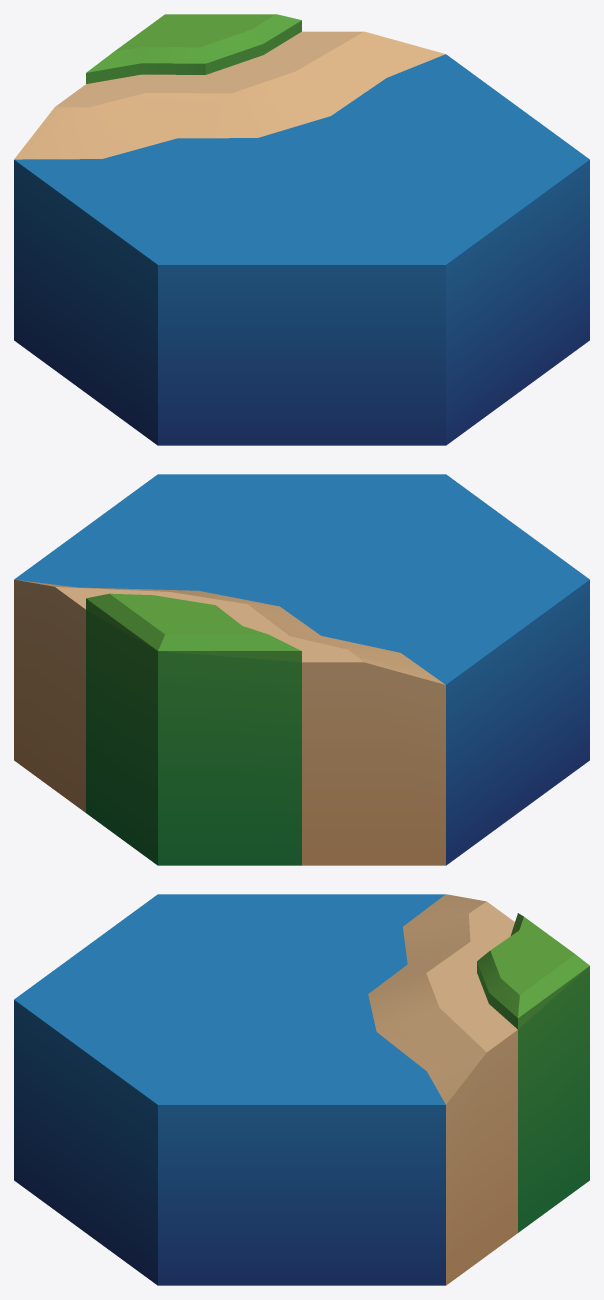
File: hex_coast_4.glb
3 views of the same model, one above another, from view 1: azimuth 30°, elevation 25°; view 2: azimuth 150°, elevation 25°; view 3: azimuth 270°, elevation 25° (orthographic).
Visible parts, largest first — view 1: hex_coast_4; view 2: hex_coast_4; view 3: hex_coast_4.
Part boxes in pixels (x1,y1,x2,y2): hex_coast_4: (14, 14, 589, 445); hex_coast_4: (14, 474, 589, 865); hex_coast_4: (14, 894, 589, 1285).
Size of the model in its own units: 1 by 0.5 by 1.15.
1 material, 1 textured.
